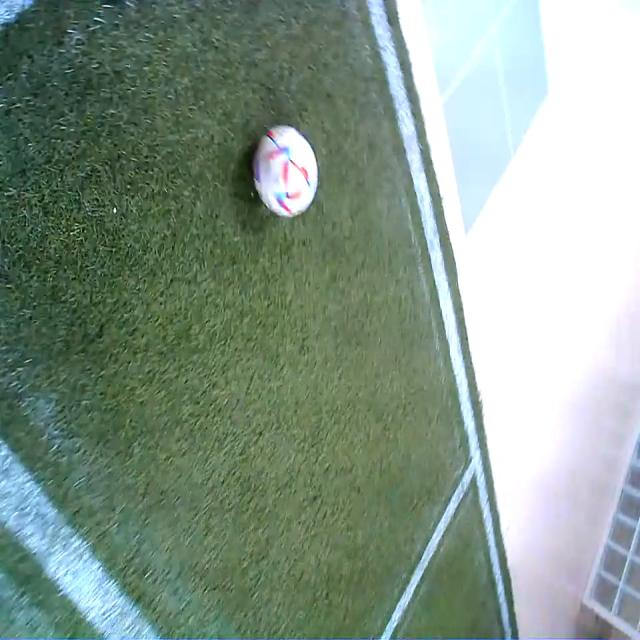ball: (254, 124, 319, 219)
